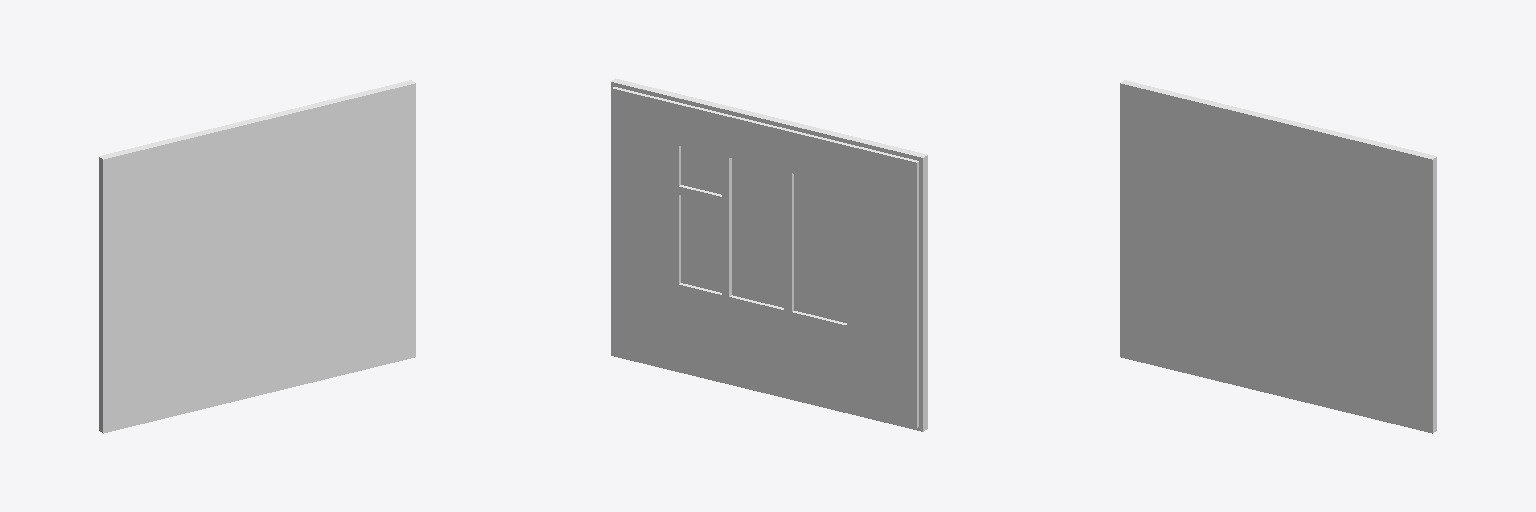
Rendered from dom-11.obj.
The picture shows the model from 3 angles: view 1: azimuth 30°, elevation 25°; view 2: azimuth 150°, elevation 25°; view 3: azimuth 330°, elevation 25°; orthographic projection.
Parts seen in each view (by area): view 1: object 1; view 2: object 1; view 3: object 1.
Boxes of the visible parts, <box> form: object 1: <box>99,80,415,433</box>; object 1: <box>611,78,927,431</box>; object 1: <box>1120,80,1436,433</box>.
Size of the model in its own units: 8 by 6.7 by 0.3.